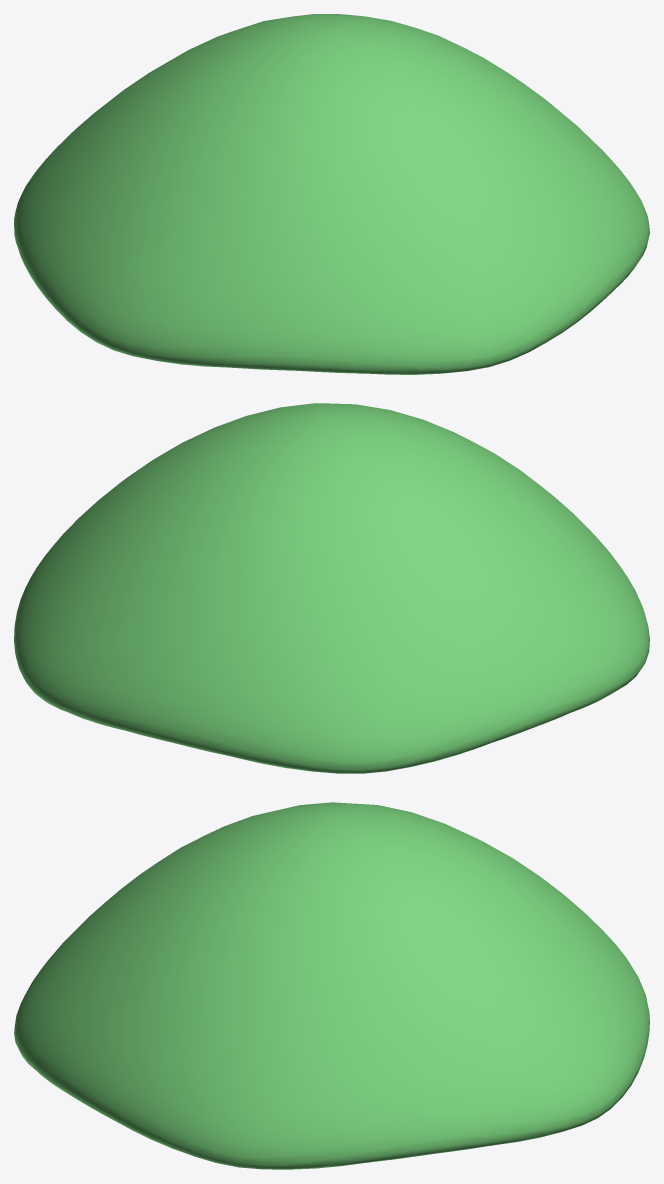
File: Hill1.fbx
The picture shows the model from 3 angles, top to bottom: view 1: azimuth 30°, elevation 25°; view 2: azimuth 150°, elevation 25°; view 3: azimuth 270°, elevation 25°; orthographic projection.
Visible parts, largest first — view 1: Hill1; view 2: Hill1; view 3: Hill1.
Part boxes in pixels (x1,y1,x2,y2): Hill1: (14, 14, 649, 374); Hill1: (14, 403, 649, 773); Hill1: (14, 802, 649, 1169).
Size of the model in its own units: 21.8 by 8.28 by 21.78.
